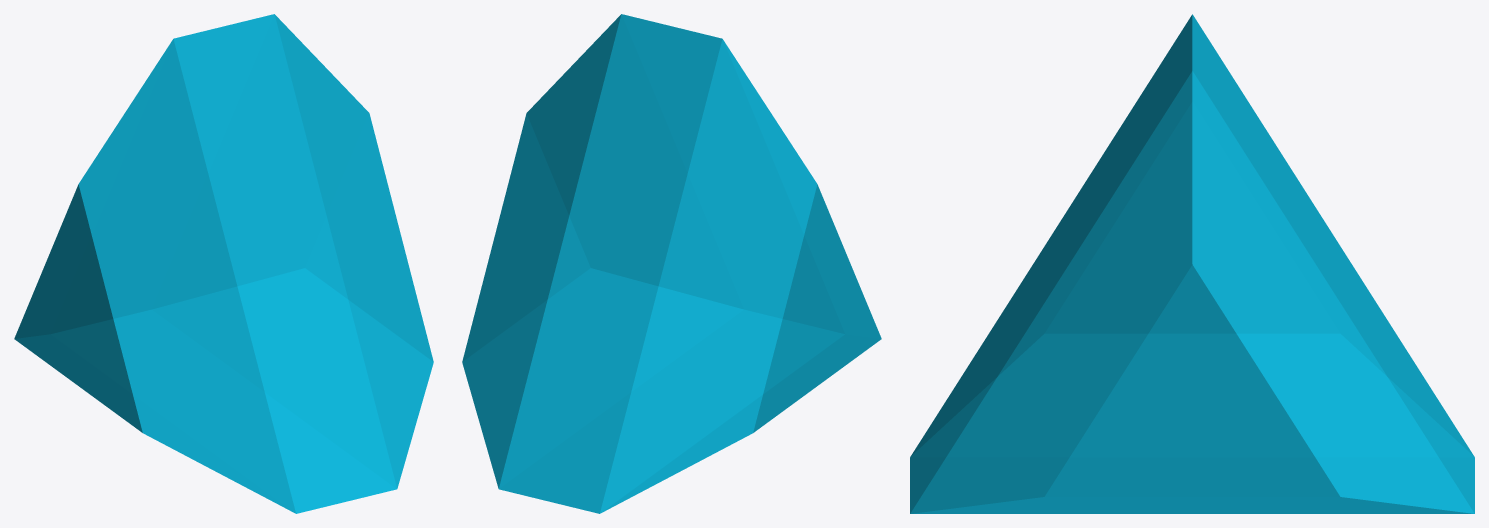
File: triangle.fbx
3 views of the same model, side by side, from view 1: azimuth 30°, elevation 25°; view 2: azimuth 150°, elevation 25°; view 3: azimuth 270°, elevation 25° (orthographic). The views are drawn at different scales.
Visible parts, largest first — view 1: polySurface1; view 2: polySurface1; view 3: polySurface1.
Boxes of the visible parts, x1=… form: polySurface1: x1=14, y1=14, x2=433, y2=513; polySurface1: x1=462, y1=14, x2=881, y2=513; polySurface1: x1=910, y1=14, x2=1474, y2=513.
Size of the model in its own units: 1.9 by 2.4 by 2.77.
